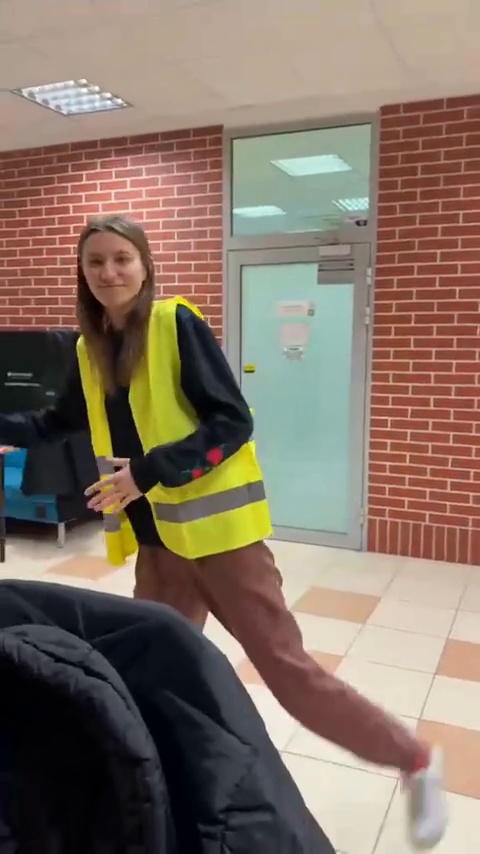vest: (45, 213, 342, 716)
